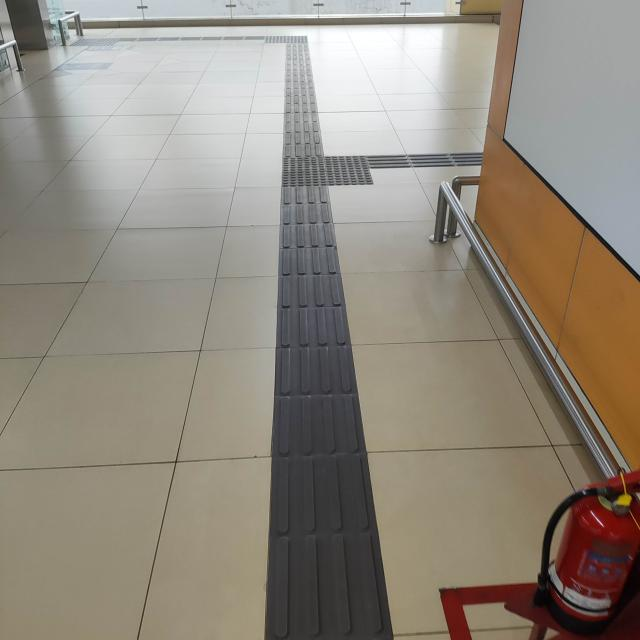lurus: (260, 175, 401, 640), (269, 57, 331, 148)
